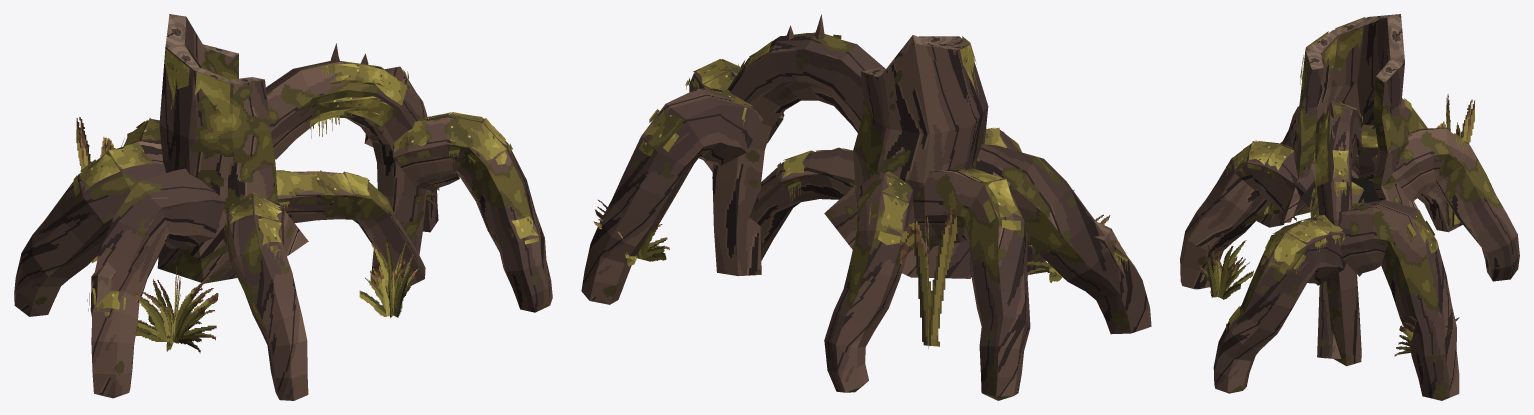
The model's file is SM_SW10_SnagHollowSplit.fbx.
3 renders of one model, left to right at view 1: azimuth 30°, elevation 25°; view 2: azimuth 150°, elevation 25°; view 3: azimuth 270°, elevation 25°, orthographic. The views are drawn at different scales.
Parts seen in each view (by area): view 1: SW10c_Bark, SW10c_Moss, SW10c_Plants, SW10c_Props; view 2: SW10c_Bark, SW10c_Moss, SW10c_Plants, SW10c_Props; view 3: SW10c_Bark, SW10c_Moss, SW10c_Plants, SW10c_Props.
Boxes of the visible parts, x1,y1,x2,y2 form: SW10c_Bark: (14,17,552,400); SW10c_Moss: (73,47,539,316); SW10c_Plants: (76,66,475,353); SW10c_Props: (165,14,291,217); SW10c_Bark: (581,14,1151,400); SW10c_Moss: (639,33,1128,261); SW10c_Plants: (593,34,1127,348); SW10c_Props: (861,35,968,77); SW10c_Bark: (1180,17,1519,400); SW10c_Moss: (1226,17,1469,331); SW10c_Plants: (1198,55,1475,363); SW10c_Props: (1300,14,1404,207).
Bounding box in the file's own units: 3.23 × 2.12 × 2.4.
